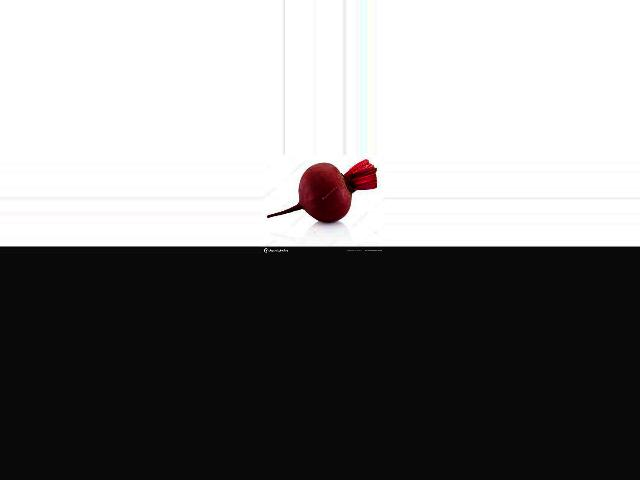beet: (267, 160, 377, 222)
